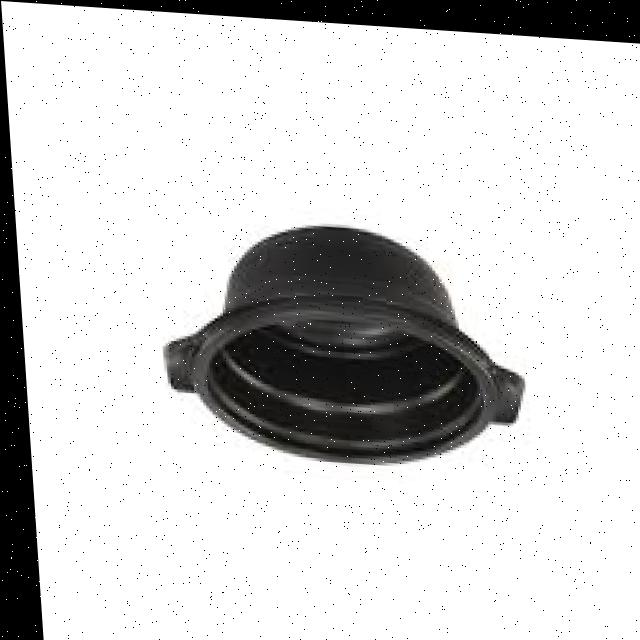disposable: (109, 199, 559, 496)
